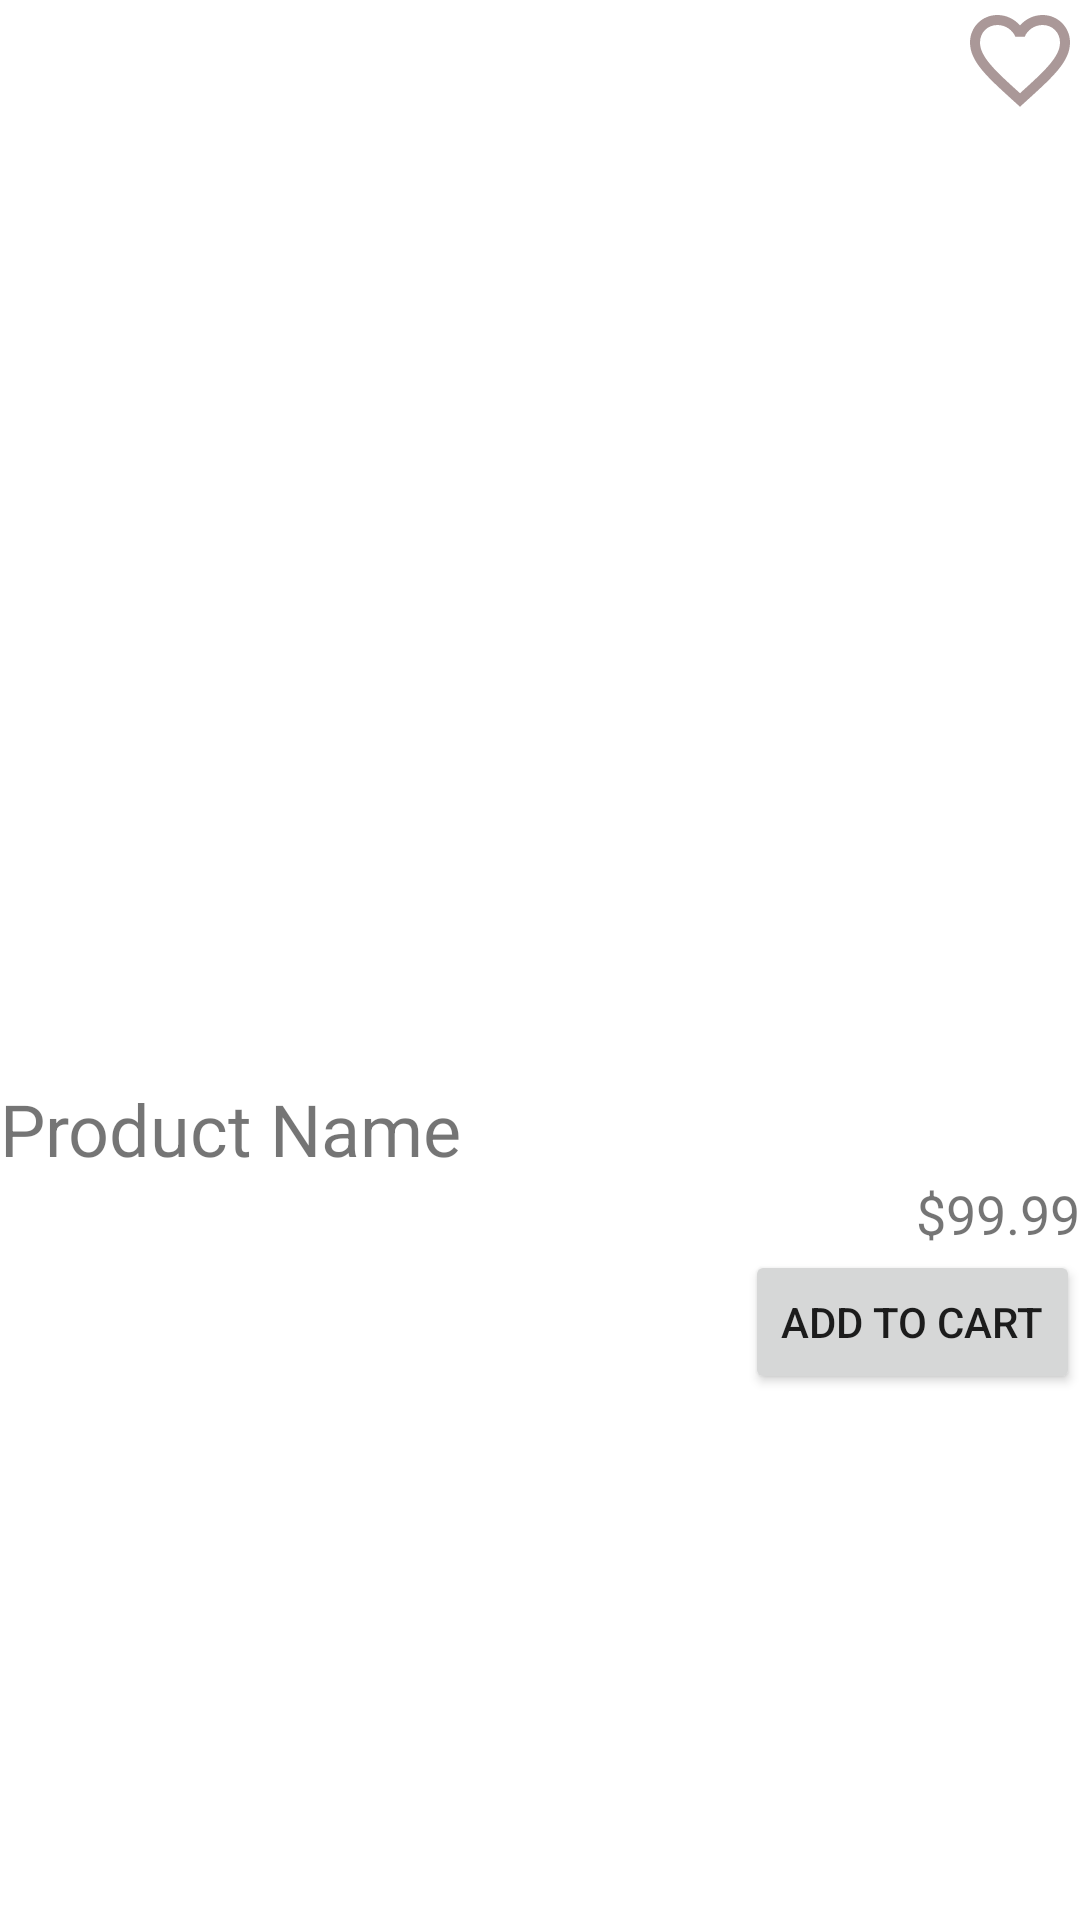

Screen size 1080 x 1920. Icon name, then its center in pixels as [x,y]:
fav: [1020,61]
